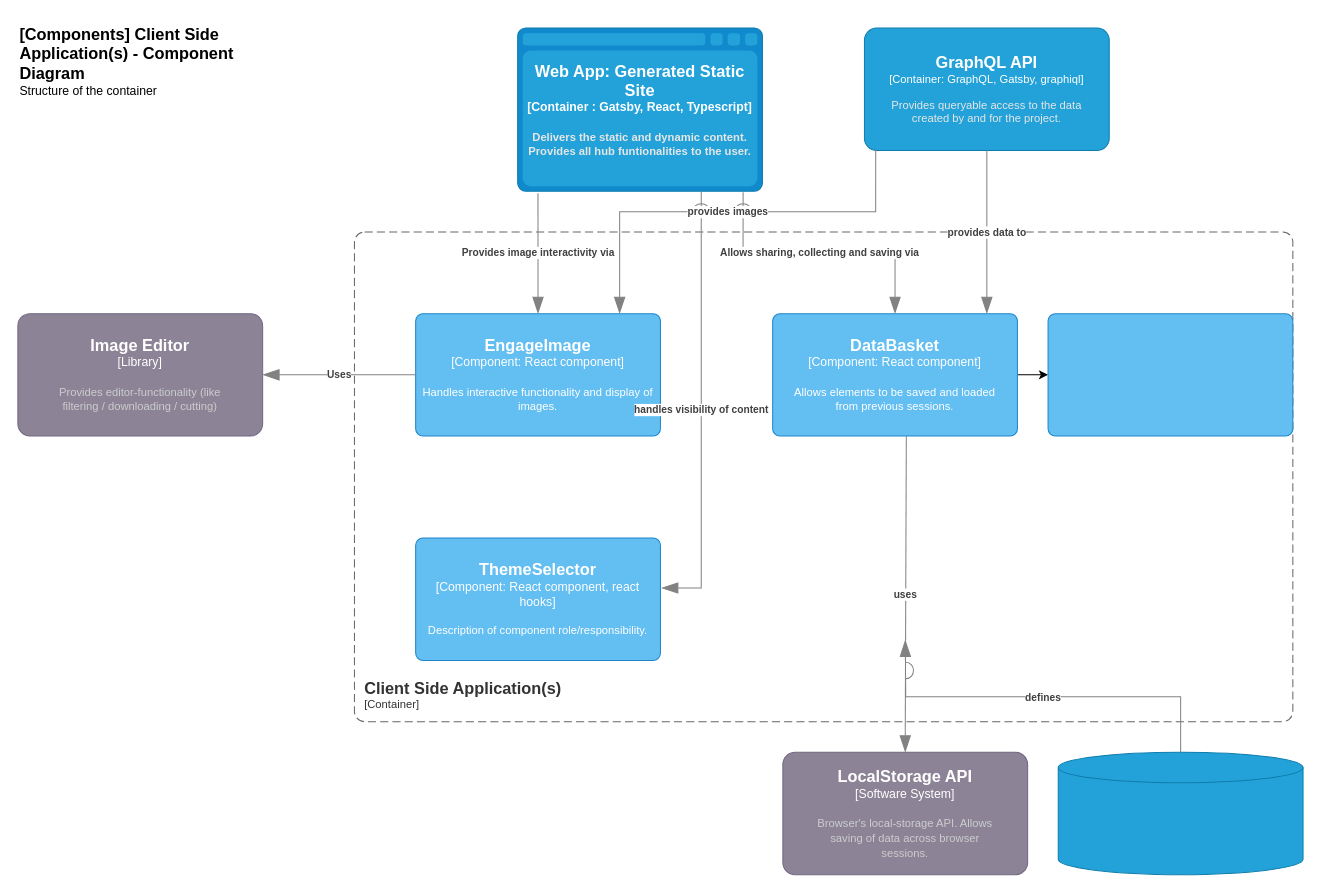
Some shapes in this 1321 by 893 pixel diagram are drawn without their labels. The centre of each missing label's shape, as x and y in pixels:
"BasketSharer [Component: React component] Handles sharing of basket contents." goes at [1170,374].
"CMS Datamodel [Container : Netlify CMS] Data model defined by the CMS." goes at [1180,813].
